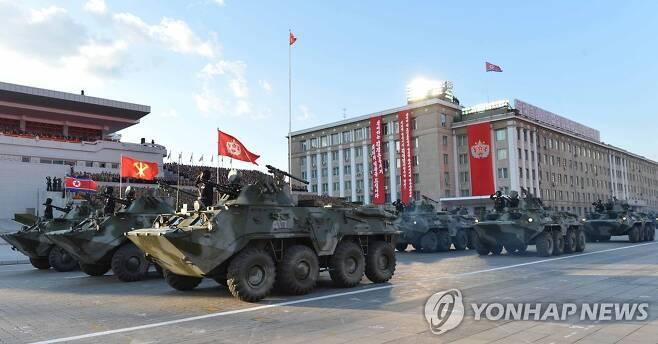MIL_IFV: (125, 198, 400, 302), (49, 194, 174, 280), (469, 204, 584, 258), (393, 199, 473, 251), (585, 201, 656, 243)
